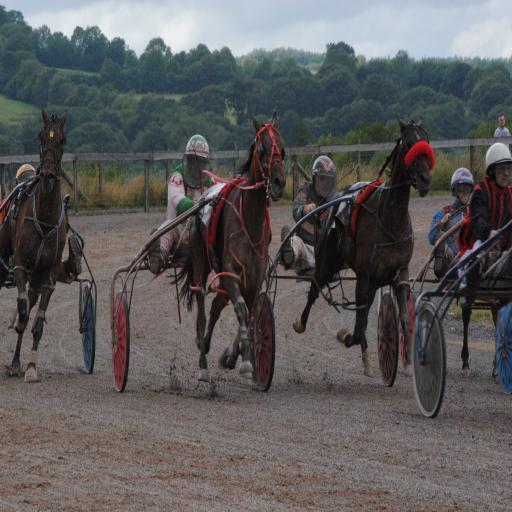horse: (294, 114, 434, 378), (166, 110, 288, 382), (0, 108, 68, 384)
